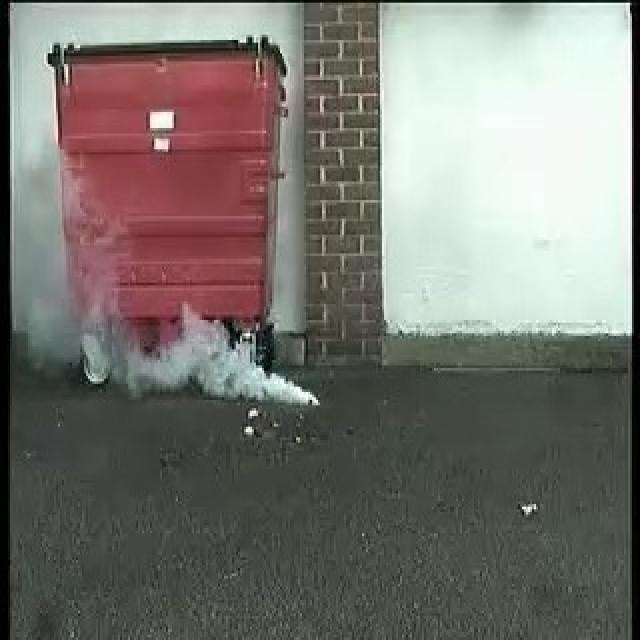smoke: (126, 304, 322, 408)
